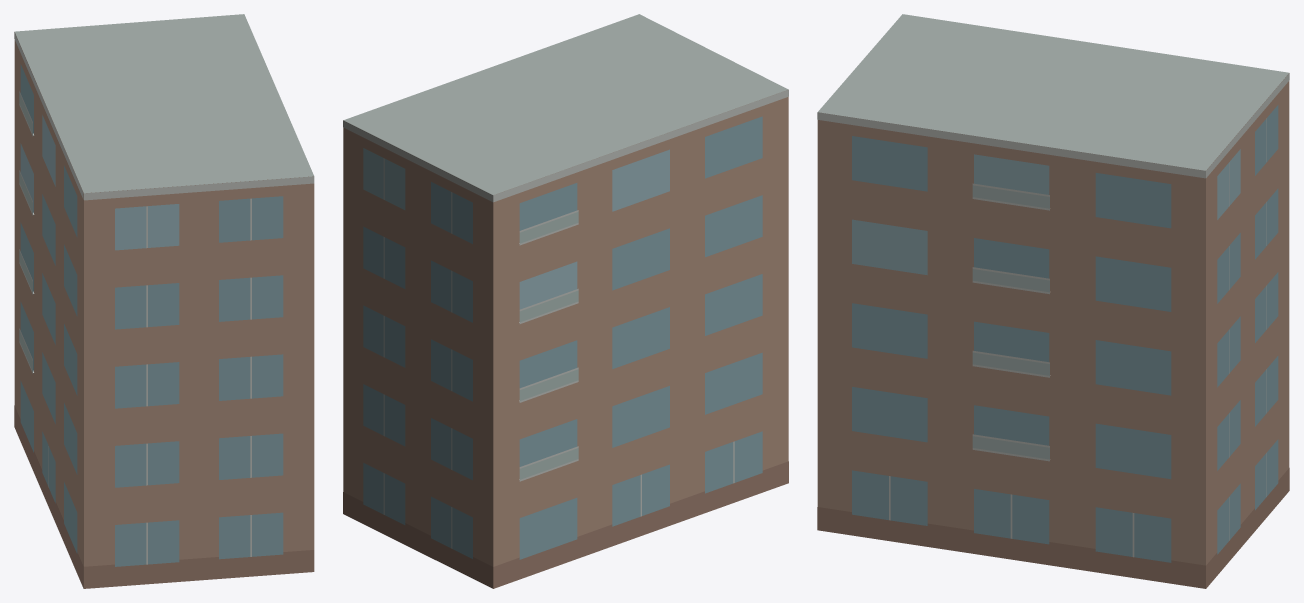
File: survey-upis-32890942.glb
The picture shows the model from 3 angles, left to right: view 1: azimuth 30°, elevation 25°; view 2: azimuth 150°, elevation 25°; view 3: azimuth 270°, elevation 25°; orthographic projection. The views are drawn at different scales.
Visible parts, largest first — view 1: survey-upis-32890942.tmp; view 2: survey-upis-32890942.tmp; view 3: survey-upis-32890942.tmp.
Part boxes in pixels (bbox=[...]): survey-upis-32890942.tmp: bbox=[14, 14, 314, 588]; survey-upis-32890942.tmp: bbox=[343, 14, 788, 588]; survey-upis-32890942.tmp: bbox=[817, 14, 1289, 588].
Size of the model in its own units: 10.8 by 13.41 by 13.73.
